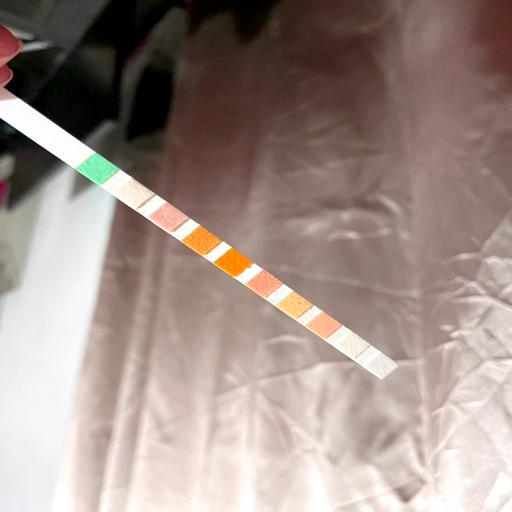Bilirubin: (120, 186, 146, 200)
Blood: (220, 256, 246, 268)
Glucose: (84, 162, 110, 176)
Ketone: (156, 210, 180, 224)
Leukocytes: (369, 360, 392, 371)
Nitrite: (340, 340, 363, 352)
Protein: (280, 300, 307, 310)
SpGravity: (188, 235, 214, 247)
Urobilinogen: (311, 320, 335, 330)
pH: (252, 278, 276, 290)
strip: (2, 98, 400, 379)
